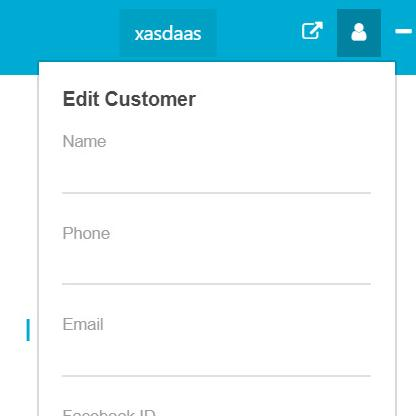field_line: (59, 132, 369, 197), (58, 225, 374, 288), (58, 316, 373, 379)
